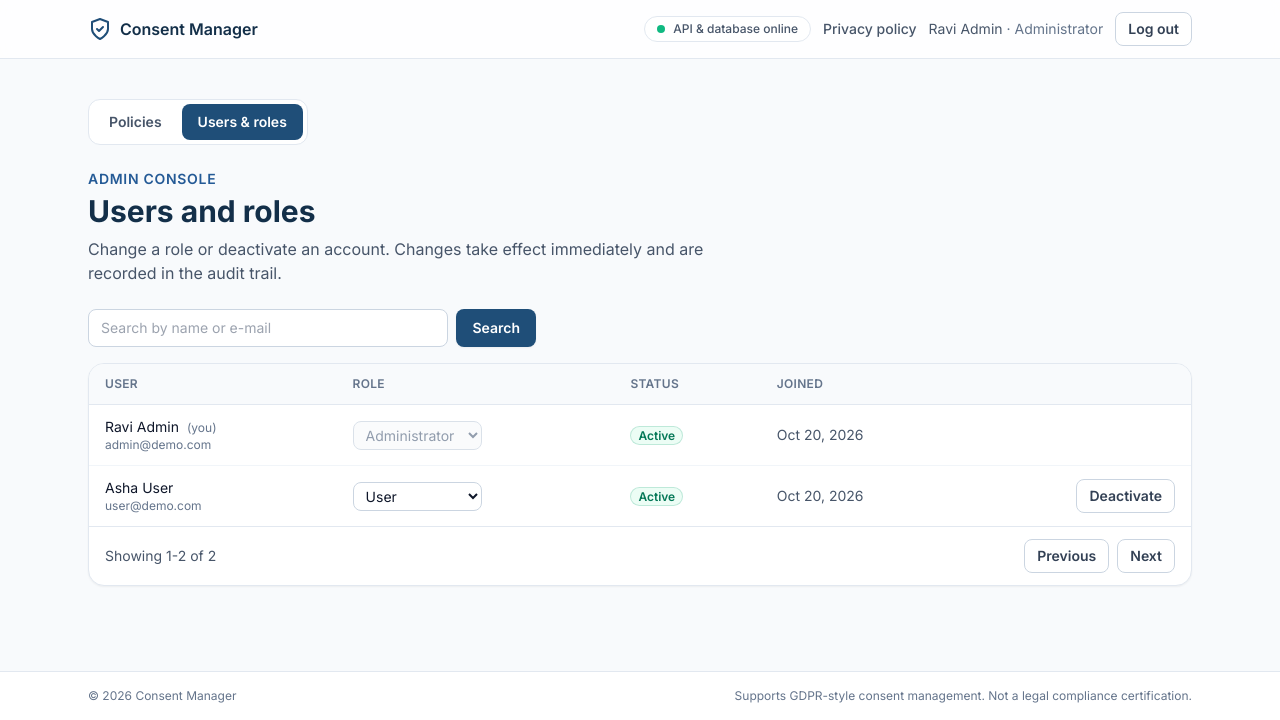
Test case: Admin: users and roles (#23) › deactivates an account
This screenshot has width=1280, height=720.
Check: the text "user@demo.com" is shown, box 105,498 -> 202,513
Click the button "Deactivate" at (1126, 496), box 1076,479 -> 1175,513
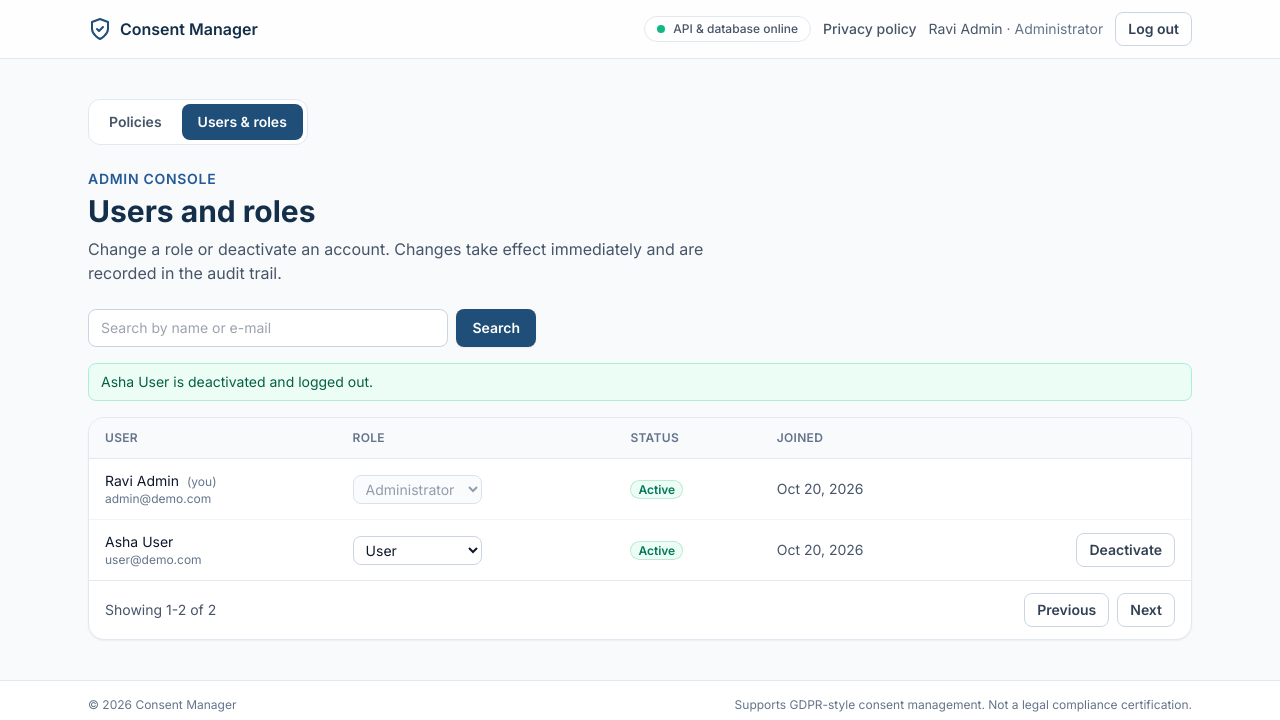
Check: the text "Asha User is deactivated and logged out." is shown, box 88,363 -> 1192,401
